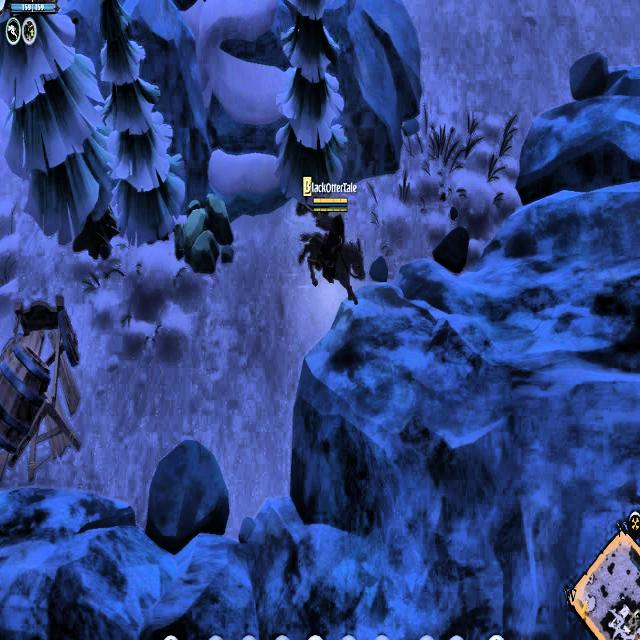sandstone: (172, 192, 236, 270)
